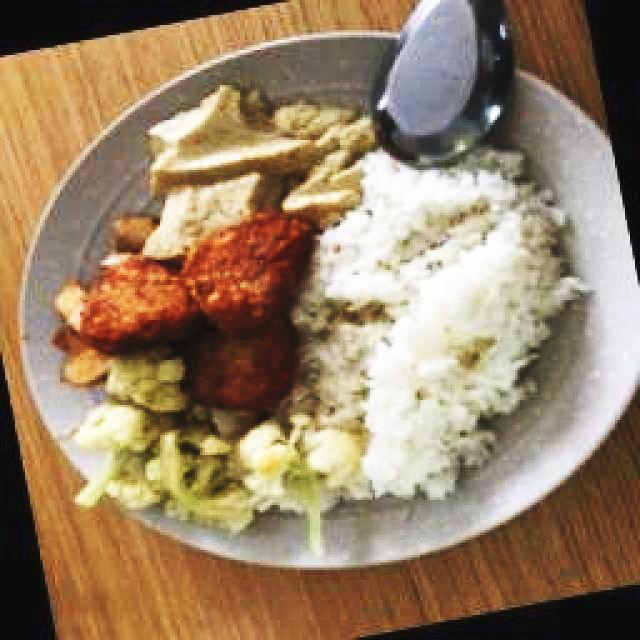chicken_nuggets: (193, 215, 314, 336), (77, 256, 204, 350), (194, 325, 296, 409)
rice: (299, 162, 586, 499)
